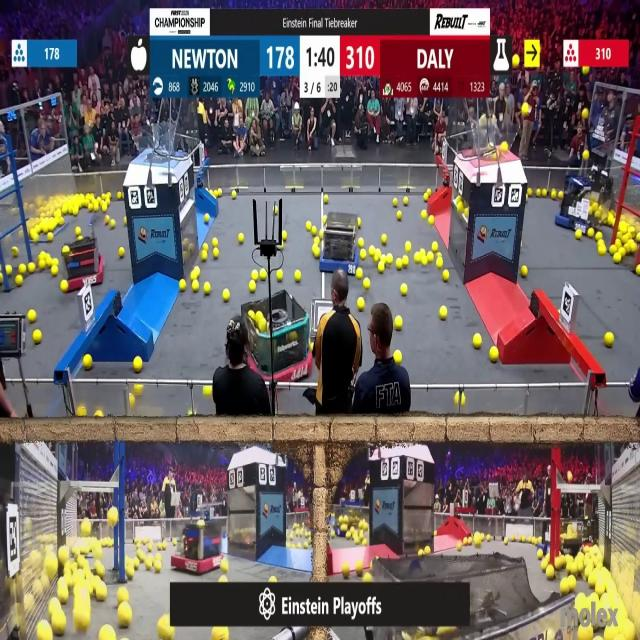ball_airborne: (108, 509, 118, 527), (80, 520, 90, 537), (522, 104, 530, 115), (500, 142, 507, 153), (481, 115, 487, 127), (584, 149, 590, 160), (583, 109, 589, 119)
ball_ground: (117, 604, 131, 627), (54, 616, 66, 636), (39, 626, 52, 640), (102, 627, 115, 640), (97, 586, 107, 602), (60, 589, 69, 604), (490, 348, 499, 362), (604, 334, 613, 348), (117, 589, 126, 603), (97, 564, 106, 578), (134, 356, 142, 371), (83, 354, 91, 369), (343, 562, 351, 577), (561, 580, 569, 595), (472, 335, 480, 349), (34, 331, 42, 345), (569, 578, 576, 594), (394, 351, 402, 364), (545, 566, 553, 579), (220, 561, 228, 573), (204, 386, 212, 398), (606, 214, 614, 226), (395, 317, 402, 330), (29, 310, 36, 323), (128, 566, 135, 579), (362, 572, 371, 582), (276, 271, 284, 282), (77, 408, 85, 419), (629, 242, 637, 253), (441, 307, 448, 319), (222, 289, 229, 301), (293, 271, 300, 283), (249, 281, 256, 293), (357, 299, 364, 311), (356, 560, 363, 572), (435, 256, 442, 268), (426, 252, 433, 264), (420, 250, 427, 262), (474, 535, 481, 547), (190, 282, 198, 292), (386, 254, 394, 264), (28, 264, 36, 274), (38, 262, 46, 272), (514, 56, 520, 69), (399, 284, 406, 295), (395, 260, 402, 271), (414, 252, 421, 263), (259, 270, 265, 282), (205, 282, 211, 294), (154, 561, 160, 573), (62, 280, 68, 292), (460, 394, 466, 406), (454, 393, 460, 405), (370, 252, 378, 261), (134, 384, 142, 393), (15, 276, 22, 286), (356, 269, 363, 279), (5, 266, 12, 276), (598, 245, 605, 255), (18, 265, 25, 275), (615, 253, 622, 263), (212, 248, 219, 258), (190, 270, 197, 280), (180, 280, 186, 291), (379, 264, 385, 275), (444, 271, 450, 282), (522, 267, 528, 278), (363, 278, 369, 289), (252, 271, 258, 282), (314, 247, 320, 258), (238, 234, 244, 245), (402, 255, 408, 266), (431, 242, 437, 253), (270, 575, 278, 583), (219, 574, 227, 582), (609, 245, 616, 254), (138, 552, 145, 561), (619, 247, 626, 256), (155, 540, 162, 549), (50, 267, 56, 277), (404, 198, 410, 208), (424, 544, 430, 554), (202, 250, 208, 260), (596, 231, 602, 241), (407, 242, 413, 252), (146, 560, 152, 570), (382, 235, 388, 245), (540, 560, 546, 570), (32, 232, 38, 242), (589, 230, 595, 239), (536, 551, 542, 560), (64, 246, 70, 255), (396, 211, 402, 220), (552, 189, 558, 198), (134, 560, 140, 569), (110, 219, 116, 228), (72, 206, 78, 215), (118, 248, 123, 258), (360, 250, 365, 260), (368, 246, 373, 256), (422, 210, 427, 220), (115, 191, 122, 198), (96, 412, 103, 419), (212, 239, 218, 247), (46, 234, 52, 242), (12, 248, 18, 256), (541, 188, 547, 196), (362, 538, 368, 546), (102, 205, 108, 213), (356, 218, 362, 226), (40, 252, 46, 260), (318, 232, 324, 240), (428, 215, 433, 224), (358, 239, 363, 248), (312, 226, 317, 235), (463, 536, 468, 545), (46, 256, 51, 265), (155, 554, 161, 561), (106, 191, 112, 198), (617, 239, 623, 246), (172, 538, 178, 545), (54, 259, 60, 266), (575, 232, 580, 240), (457, 542, 462, 550), (282, 233, 287, 241), (205, 214, 210, 222), (636, 266, 640, 276), (76, 226, 80, 236), (307, 221, 312, 229), (322, 215, 327, 223), (536, 188, 541, 196), (314, 237, 319, 245), (217, 188, 222, 196), (0, 274, 4, 284), (164, 540, 168, 549), (204, 243, 209, 250), (275, 207, 280, 214), (105, 216, 110, 223), (393, 200, 397, 208), (324, 194, 328, 202), (234, 190, 238, 198), (424, 193, 428, 201), (122, 217, 126, 225), (148, 542, 152, 550), (368, 560, 372, 568), (290, 532, 294, 540), (503, 538, 508, 544), (296, 542, 301, 548), (512, 535, 517, 541), (528, 188, 532, 195), (419, 550, 423, 557), (488, 534, 492, 541), (636, 235, 640, 242), (90, 205, 94, 212), (188, 412, 192, 418), (305, 542, 309, 548), (433, 530, 436, 536)
goal: (467, 124, 523, 160), (130, 130, 188, 160)
robot_blue: (556, 169, 599, 231), (321, 214, 360, 275)
robot_red: (245, 298, 312, 384), (172, 518, 222, 574), (64, 236, 104, 292), (558, 522, 582, 554)
